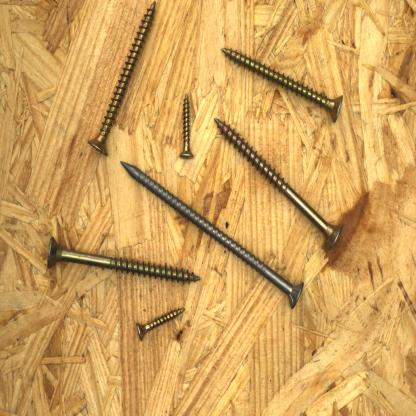screw: (118, 157, 308, 314), (212, 114, 347, 254), (84, 0, 160, 159), (221, 45, 346, 125), (45, 231, 204, 286), (134, 305, 188, 344), (176, 91, 196, 163)
